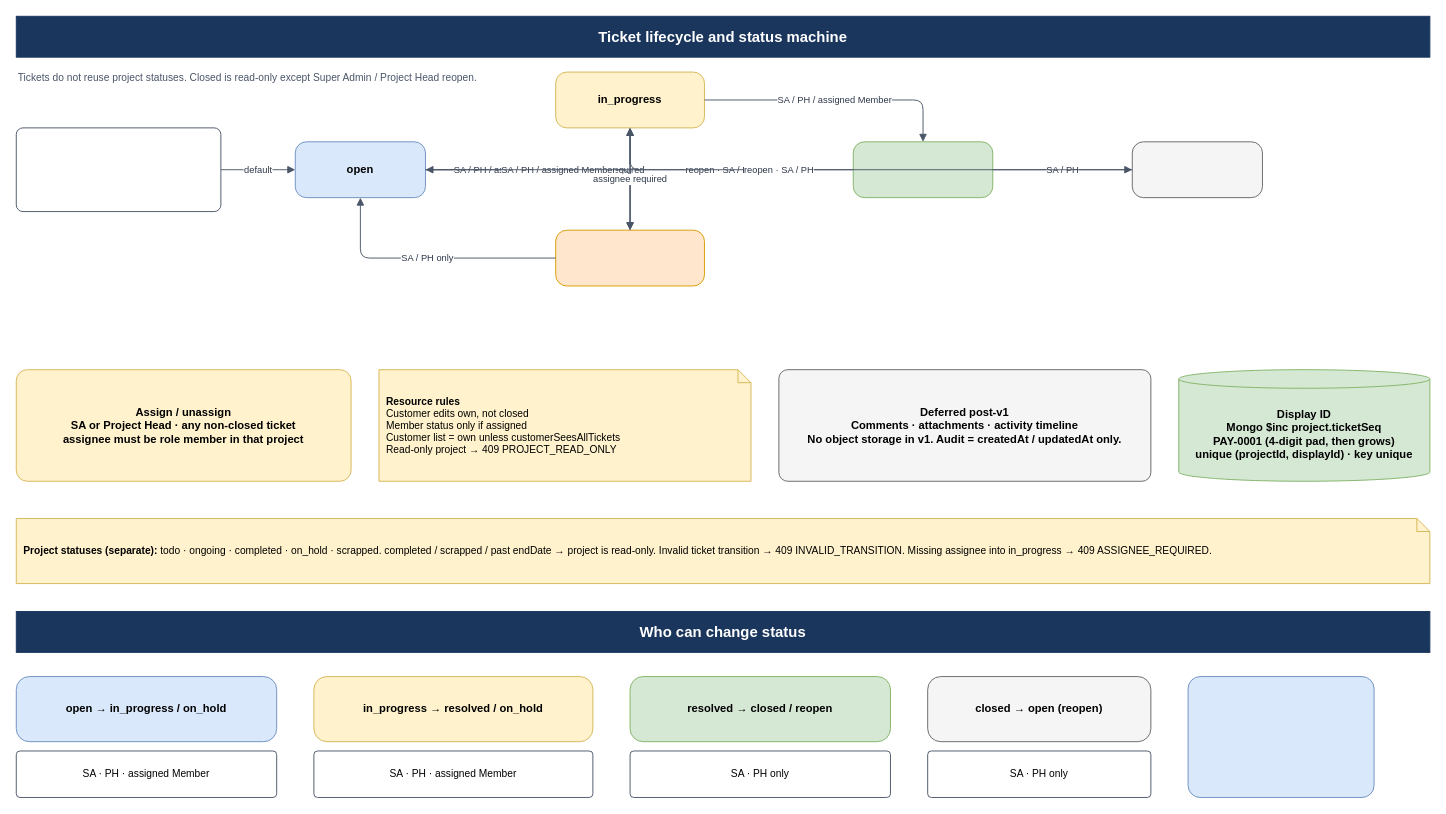
Some shapes in this 1446 by 814 pixel diagram are drawn without their labels. The shapes that lost their labels are listed below. From the top down, each one's box as (x1, y1, x2, y2) in pixels, then its label:
(15, 127, 221, 212): Create ticket SA / PH / Customer / Member type ∈ project.ticketTypes
(852, 141, 993, 198): resolved
(1131, 141, 1262, 198): closed
(555, 229, 704, 286): on_hold
(1187, 676, 1374, 797): Customer never changes status
